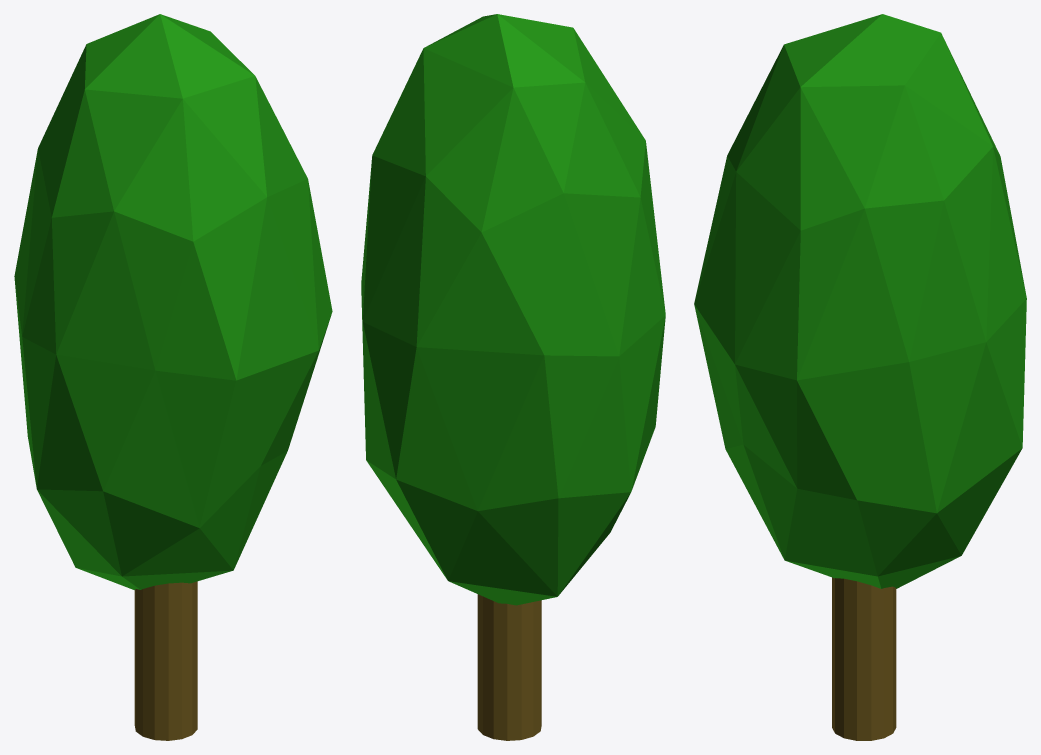
Rendered from Tree2.fbx.
The picture shows the model from 3 angles, left to right: view 1: azimuth 30°, elevation 25°; view 2: azimuth 150°, elevation 25°; view 3: azimuth 270°, elevation 25°; orthographic projection.
Parts seen in each view (by area): view 1: Circle.001; view 2: Circle.001; view 3: Circle.001.
Part boxes in pixels (<box>): Circle.001: <box>14,14,332,740</box>; Circle.001: <box>361,14,665,740</box>; Circle.001: <box>694,14,1026,740</box>.
Bounding box in the file's own units: 52.2 × 133 × 56.09.
